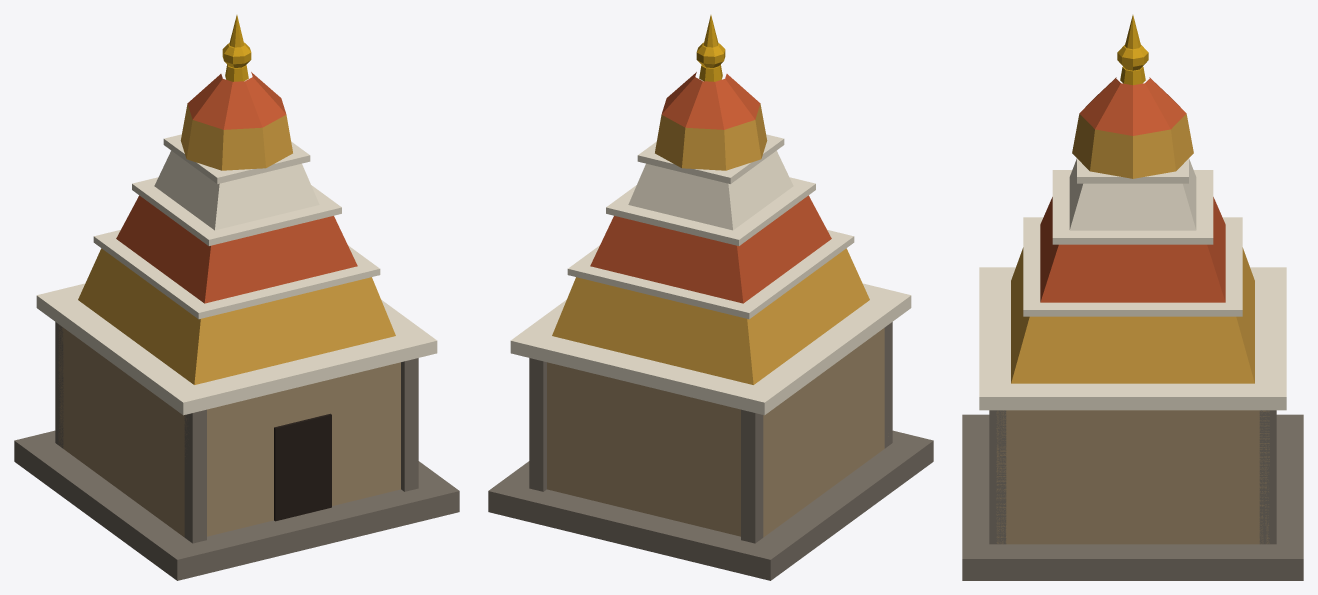
File: bld_temple_shrine.glb
3 views of the same model, side by side, from view 1: azimuth 30°, elevation 25°; view 2: azimuth 150°, elevation 25°; view 3: azimuth 270°, elevation 25° (orthographic). The views are drawn at different scales.
Visible parts, largest first — view 1: bld_temple_shrine; view 2: bld_temple_shrine; view 3: bld_temple_shrine.
Boxes of the visible parts, x1,y1,x2,y2 form: bld_temple_shrine: (14,15,459,580); bld_temple_shrine: (488,15,933,580); bld_temple_shrine: (962,15,1303,580).
Size of what is drawn, in the model's own units: 7 by 11.2 by 7.
